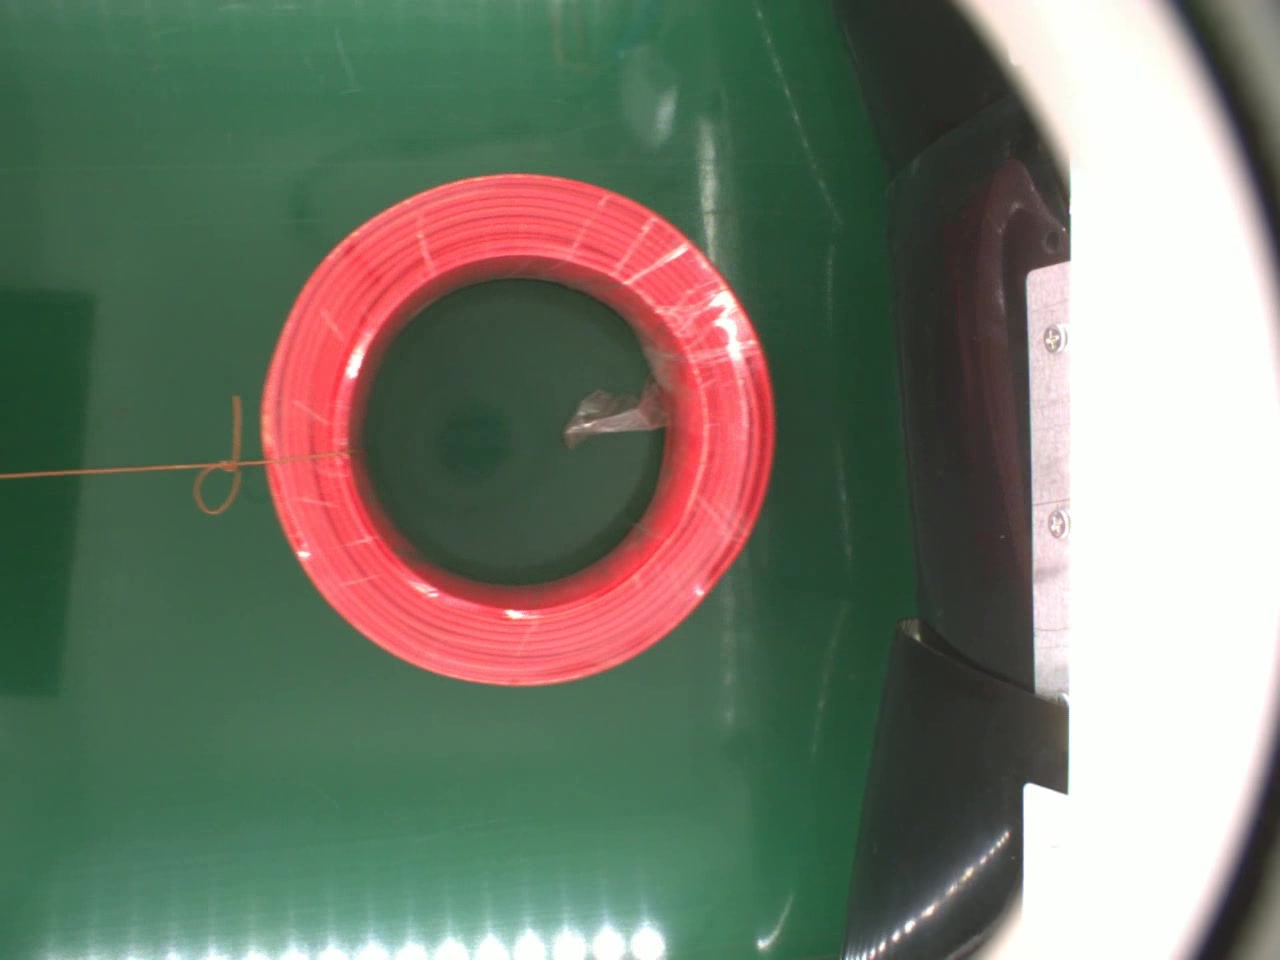red: (257, 173, 784, 690)
